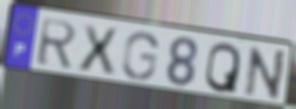8: (165, 35, 200, 89)
G: (120, 30, 160, 82)
N: (243, 45, 289, 102)
Q: (203, 41, 243, 96)
R: (35, 17, 80, 70)
X: (76, 22, 119, 76)
